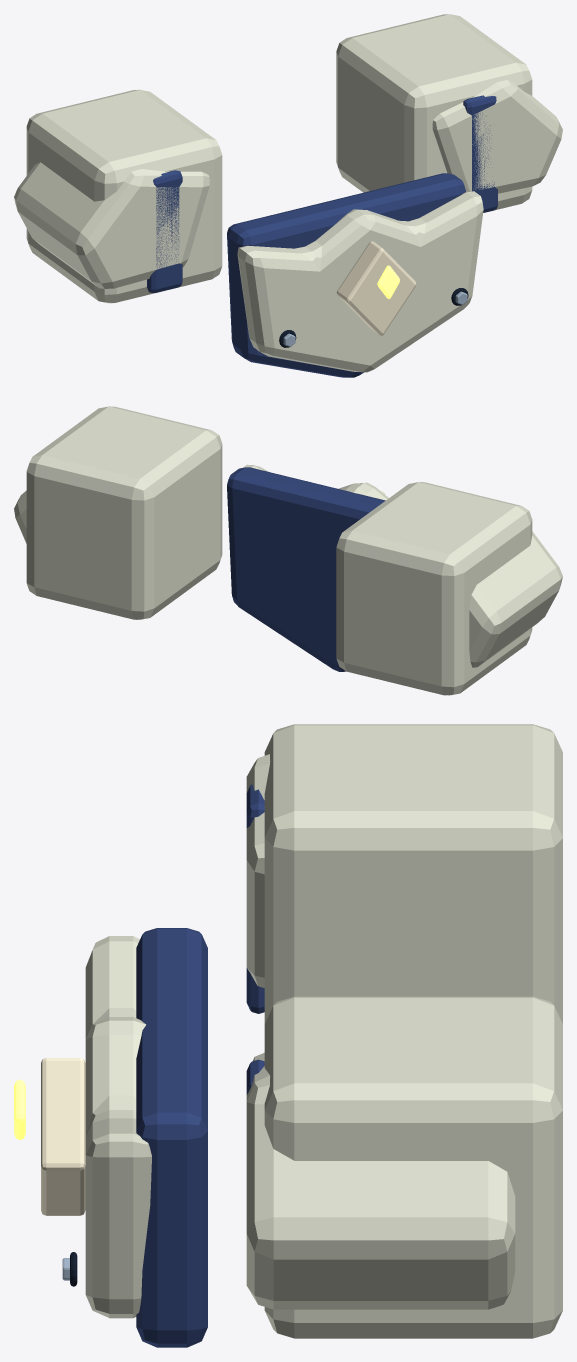
The model's file is keystone_plate.glb.
3 views of the same model, one above another, from view 1: azimuth 30°, elevation 25°; view 2: azimuth 150°, elevation 25°; view 3: azimuth 270°, elevation 25° (orthographic). The views are drawn at different scales.
Parts seen in each view (by area): view 1: ModuleArmor; view 2: ModuleArmor; view 3: ModuleArmor.
Part boxes in pixels (x1,y1,x2,y2): ModuleArmor: (14, 14, 562, 377); ModuleArmor: (14, 406, 562, 695); ModuleArmor: (14, 724, 562, 1347).
Bounding box in the file's own units: 1.69 × 0.7875 × 0.92.
